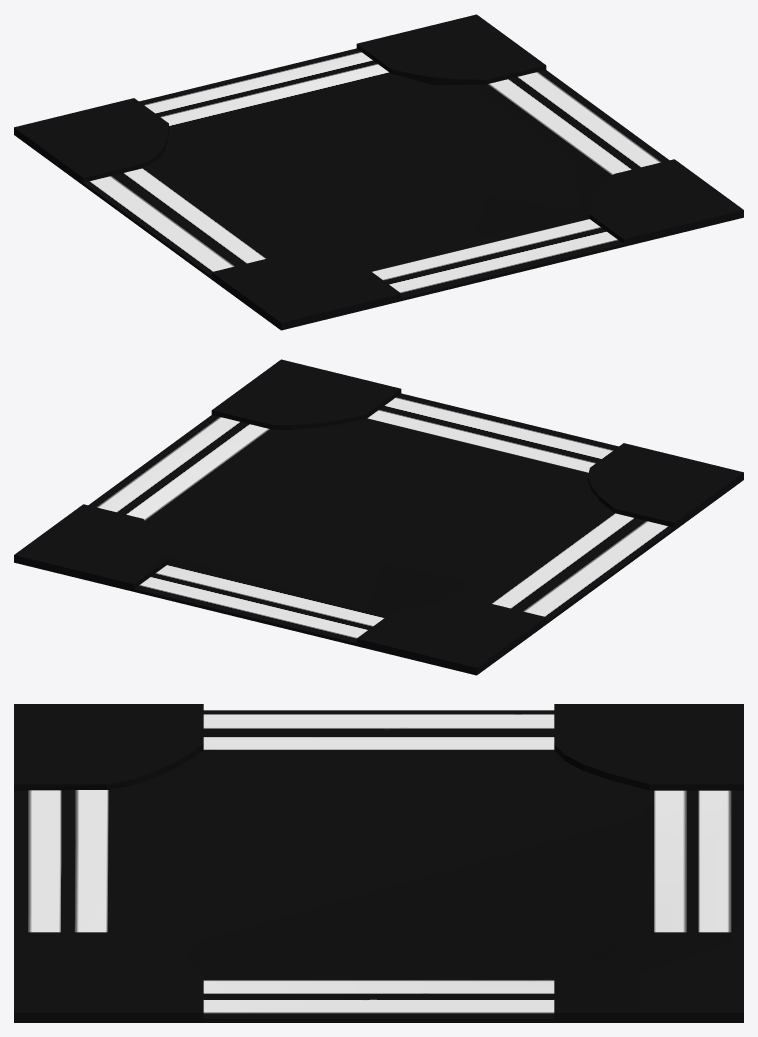
Rendered from road1.FBX.
3 renders of one model, top to bottom at view 1: azimuth 30°, elevation 25°; view 2: azimuth 150°, elevation 25°; view 3: azimuth 270°, elevation 25°, orthographic. The views are drawn at different scales.
Parts seen in each view (by area): view 1: Box001; view 2: Box001; view 3: Box001.
Boxes of the visible parts, x1,y1,x2,y2 form: Box001: [14, 14, 743, 330]; Box001: [14, 359, 743, 675]; Box001: [14, 704, 743, 1022].
Bounding box in the file's own units: 49 × 0.9634 × 49.
